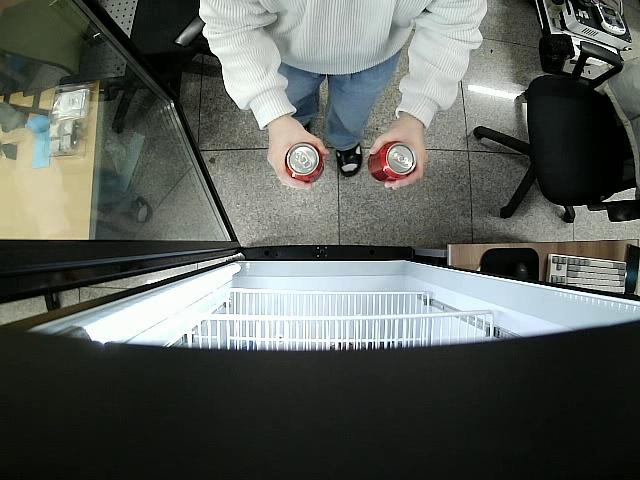00_hand: (268, 129, 328, 190), (369, 131, 427, 188)
11_cocaColaZero: (368, 142, 417, 182), (285, 141, 325, 184)
